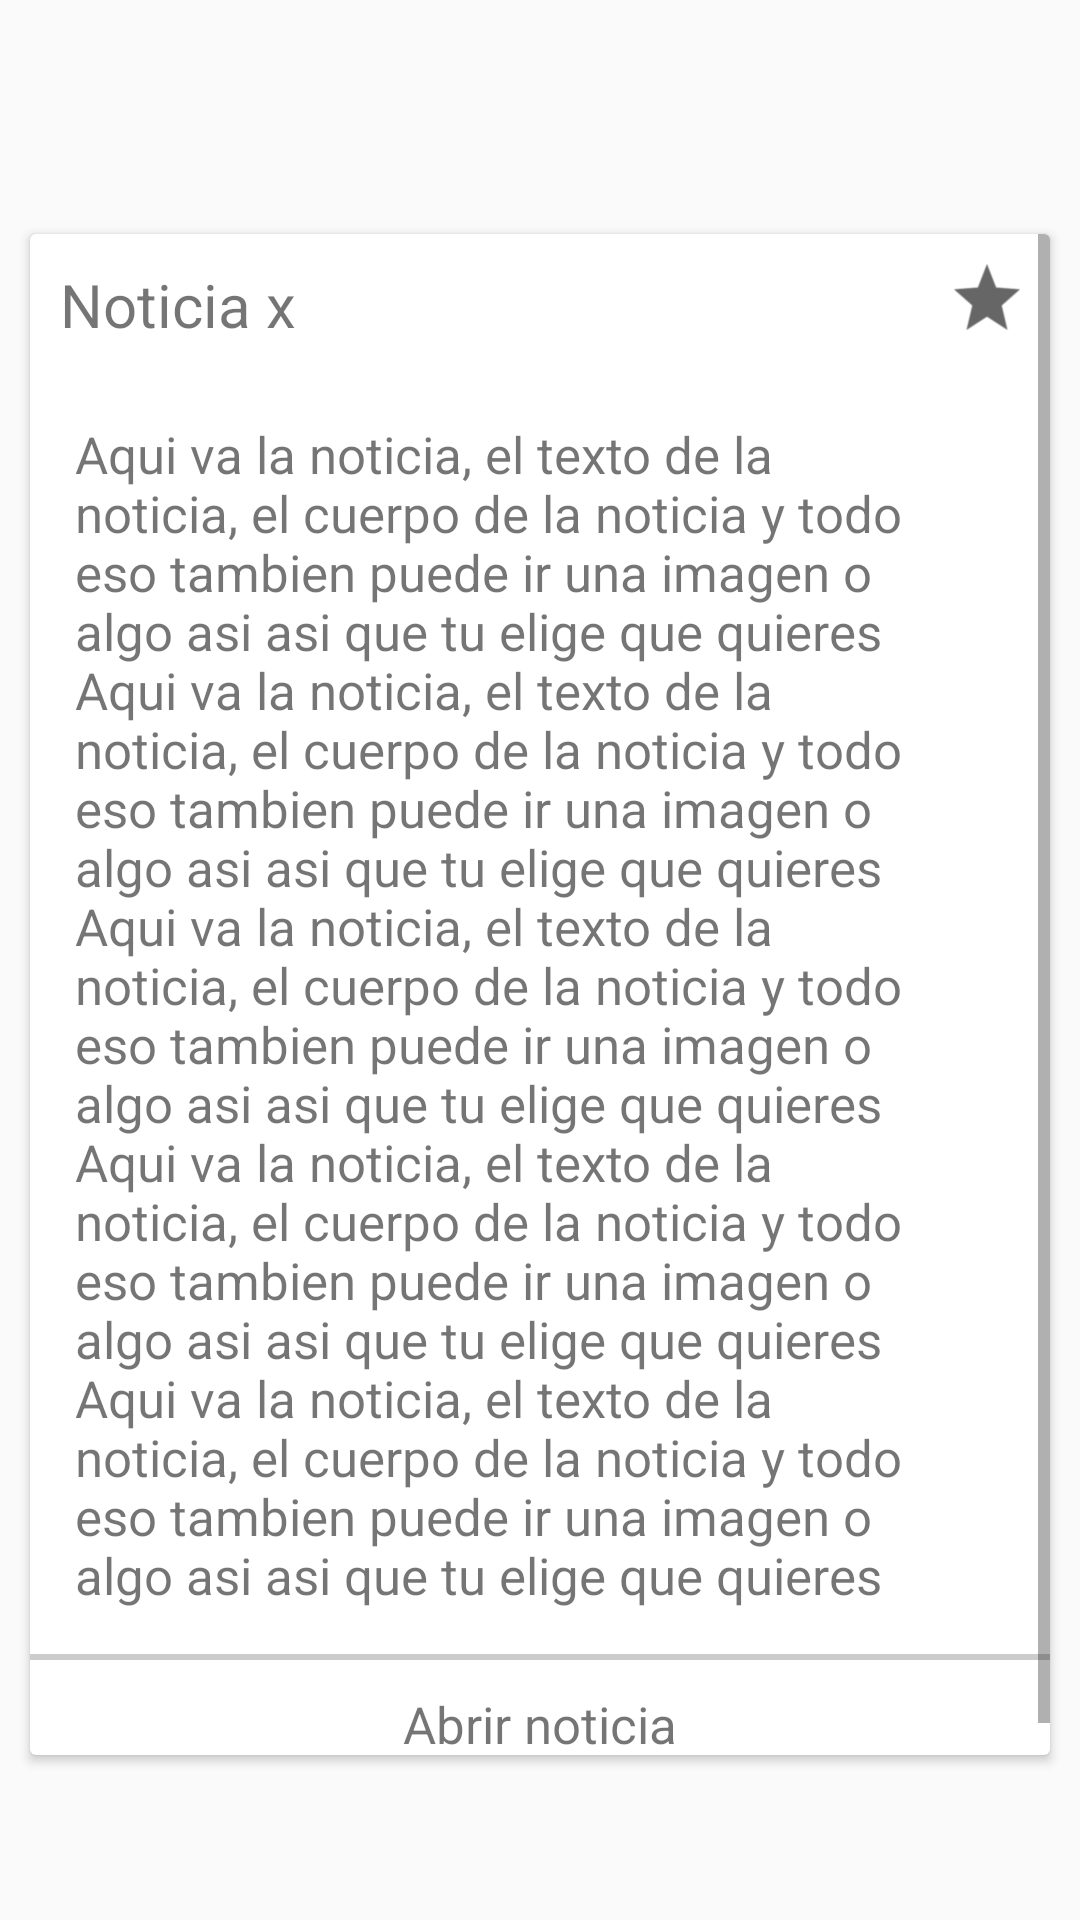

Where icons sit on this 1080*1920 app screen, as (x1, y1, x2, y2):
star: (954, 264, 1020, 330)
